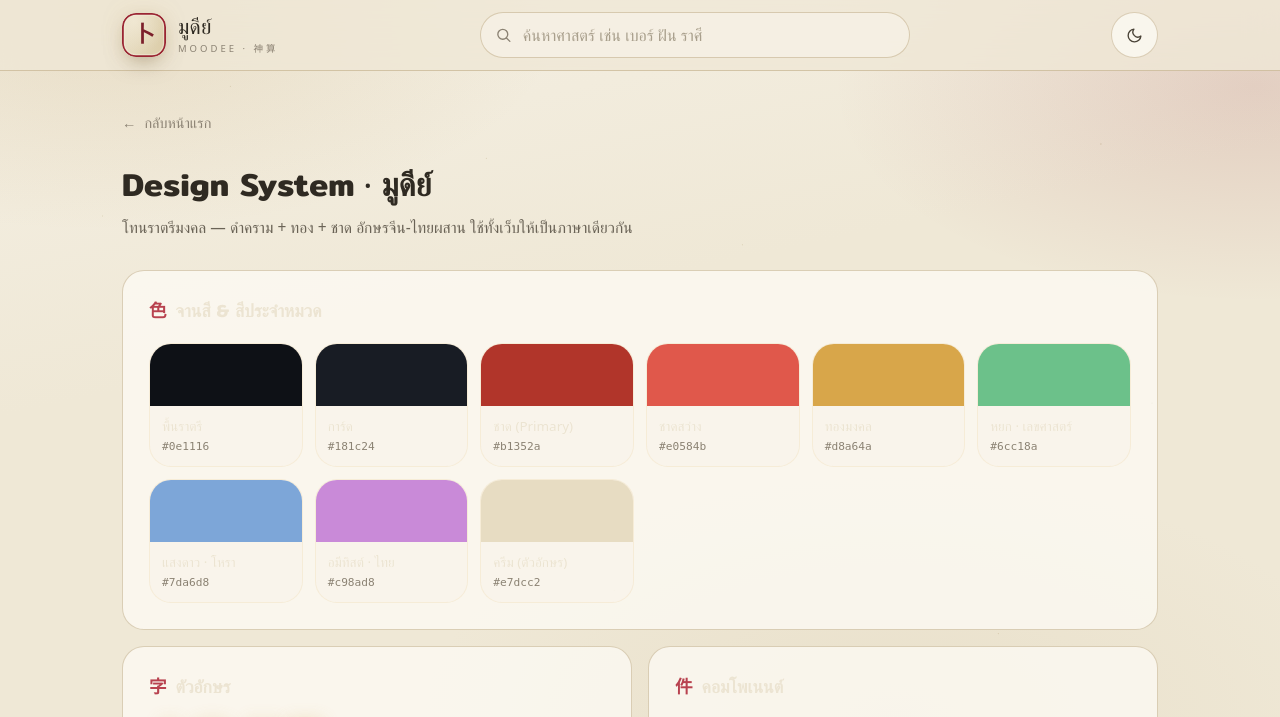
Test: App header-search parity › typing a query while on the design system jumps back to the hub results
This screenshot has width=1280, height=717.
Check: the heading "Design System · มูดีย์" is shown, box left=122, top=159, right=431, bottom=209
Type "ฝัน" into the field with placeholder "ค้นหาศาสตร์ เช่น เบอร์ ฝัน ราศี" at (695, 35), box left=480, top=12, right=910, bottom=58
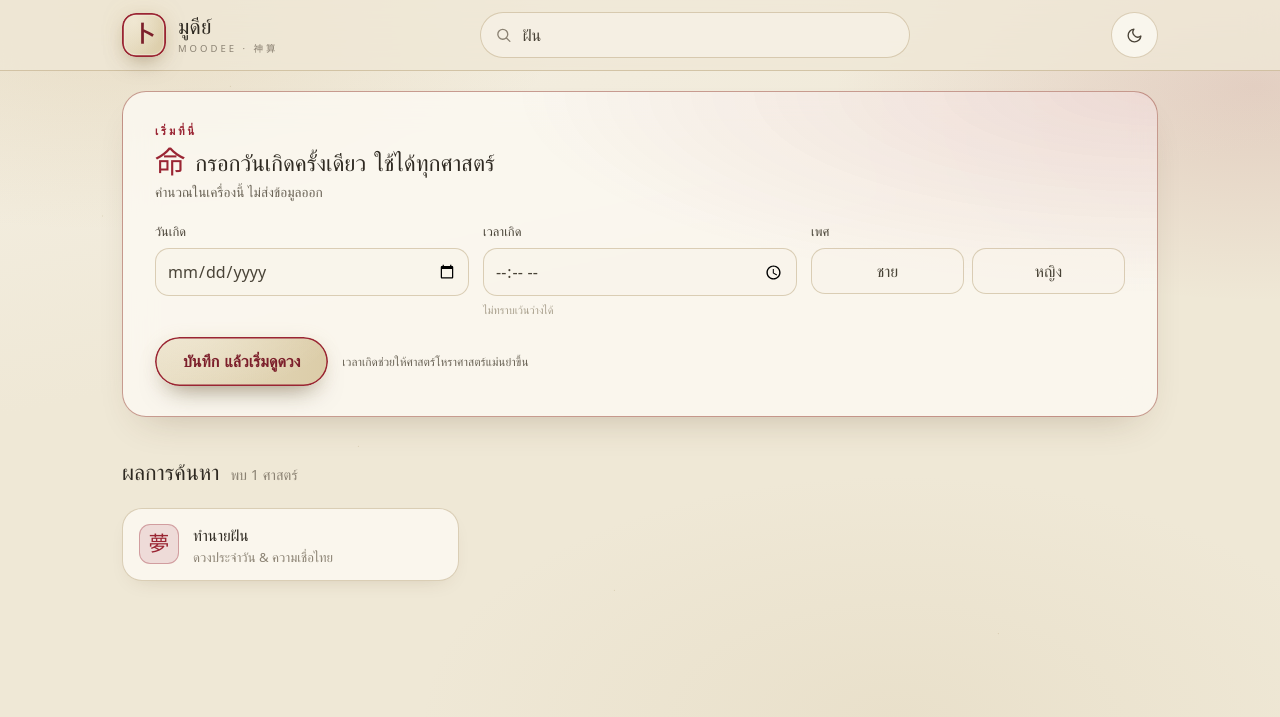
Check: the heading "Design System" is gone
Check: the heading "ผลการค้นหา" is shown, box left=122, top=455, right=219, bottom=490
